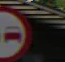No overtake: (0, 3, 39, 61)
